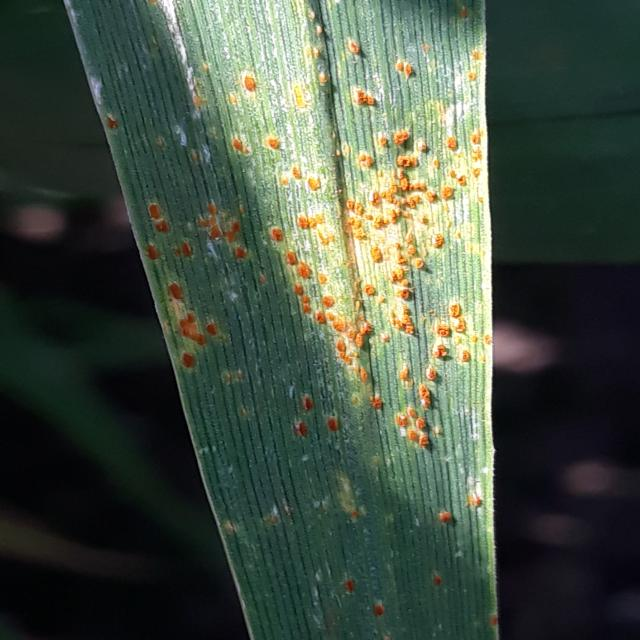orang_rust: (52, 0, 527, 640)
